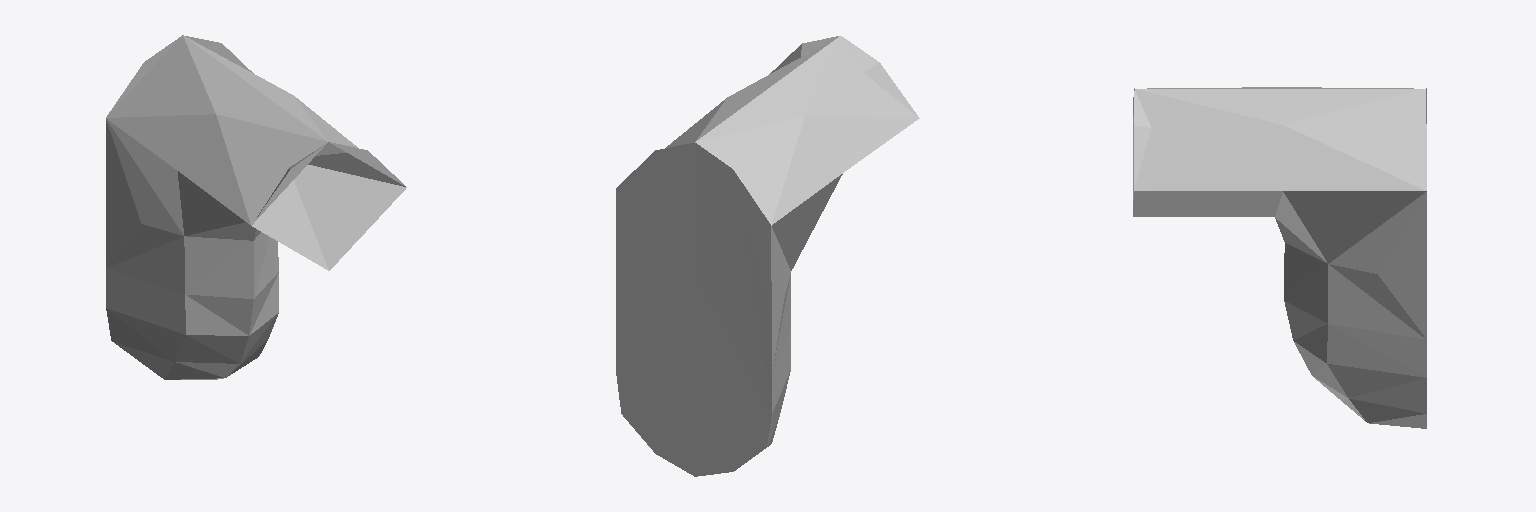
File: Boots.obj
3 views of the same model, side by side, from view 1: azimuth 30°, elevation 25°; view 2: azimuth 150°, elevation 25°; view 3: azimuth 270°, elevation 25° (orthographic).
Parts seen in each view (by area): view 1: Plane; view 2: Plane; view 3: Plane.
Boxes of the visible parts, <box> form: Plane: <box>106,35,406,379</box>; Plane: <box>616,36,919,476</box>; Plane: <box>1133,87,1426,428</box>.
Bounding box in the file's own units: 0.8503 × 1.74 × 1.38.